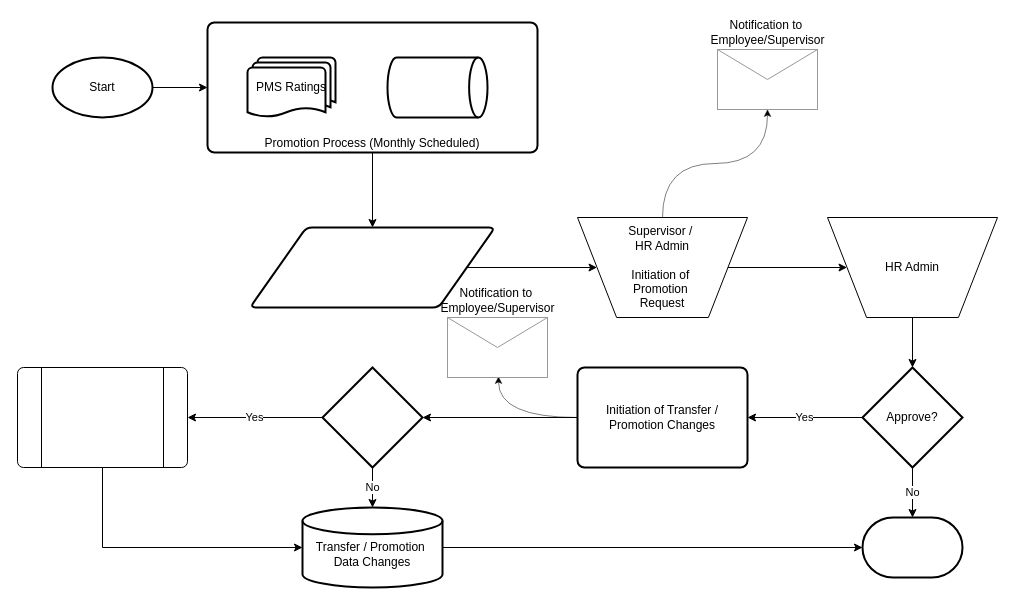
Some shapes in this 1015 by 605 pixel diagram are drawn without their labels. Here are the shapes that lost their labels. From the top down, the centre of each, then its label:
(437,87): MIS Data
(372,267): Promotion Data Extract
(102,417): Transfer Module
(372,417): Transfer?
(912,547): End
